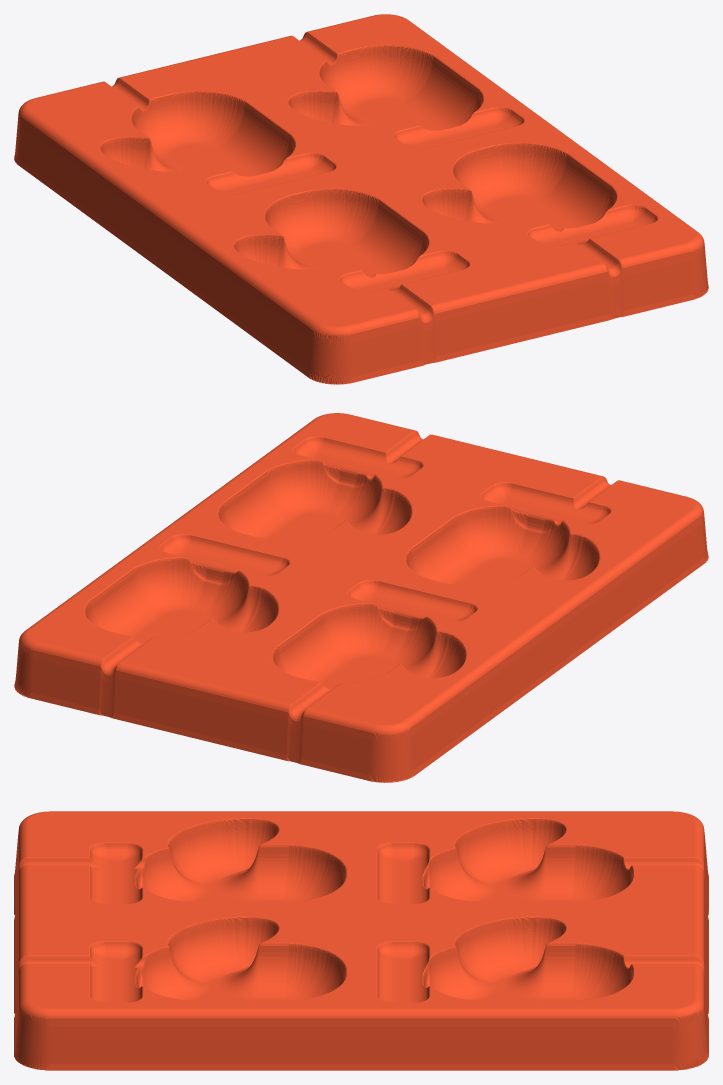
File: mold.glb
3 renders of one model, top to bottom at view 1: azimuth 30°, elevation 25°; view 2: azimuth 150°, elevation 25°; view 3: azimuth 270°, elevation 25°, orthographic. The views are drawn at different scales.
Visible parts, largest first — view 1: geometry_0; view 2: geometry_0; view 3: geometry_0.
Part boxes in pixels (x1,y1,x2,y2): geometry_0: (14, 14, 708, 384); geometry_0: (14, 413, 708, 782); geometry_0: (14, 811, 708, 1070).
Bounding box in the file's own units: 0.1228 × 0.0155 × 0.1735.
